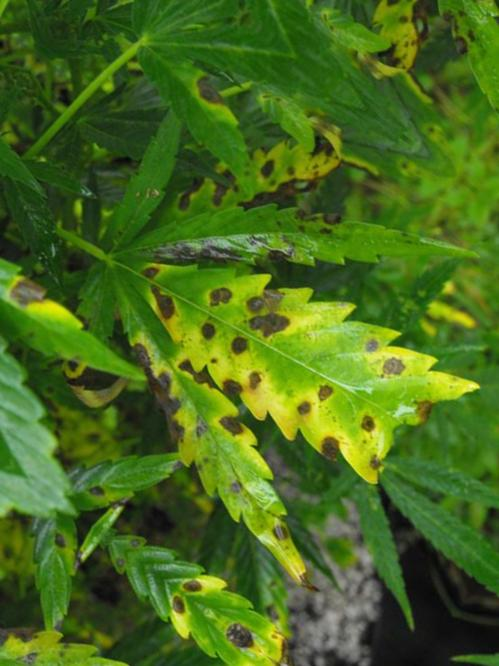Tomato leaf bacterial spot: (106, 172, 486, 514), (38, 281, 383, 592), (0, 193, 167, 435), (103, 28, 303, 211)
